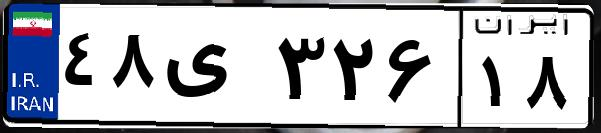1: (475, 38, 525, 113)
2: (330, 28, 385, 110)
3: (270, 28, 330, 110)
4: (57, 26, 110, 100)
6: (385, 28, 445, 110)
8: (525, 38, 570, 115), (110, 28, 158, 98)
ی: (158, 20, 270, 120)
